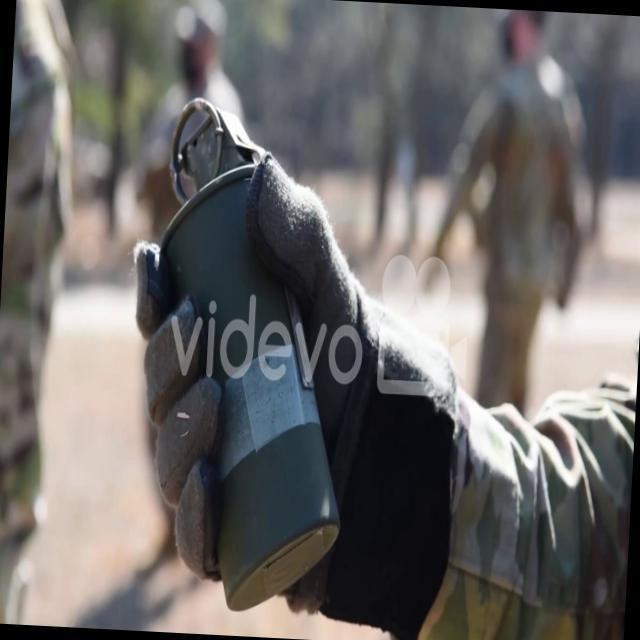grenade: (130, 95, 360, 608)
